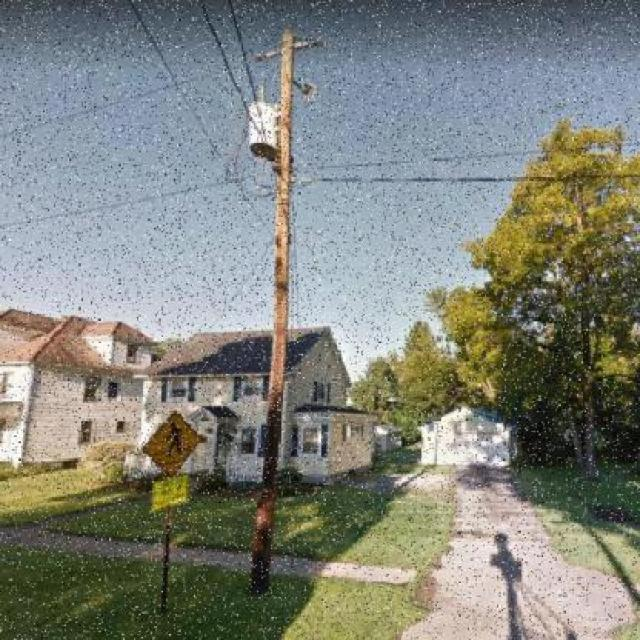pole: (180, 13, 386, 604)
